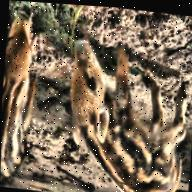boar: (57, 41, 192, 192), (0, 7, 56, 192)
